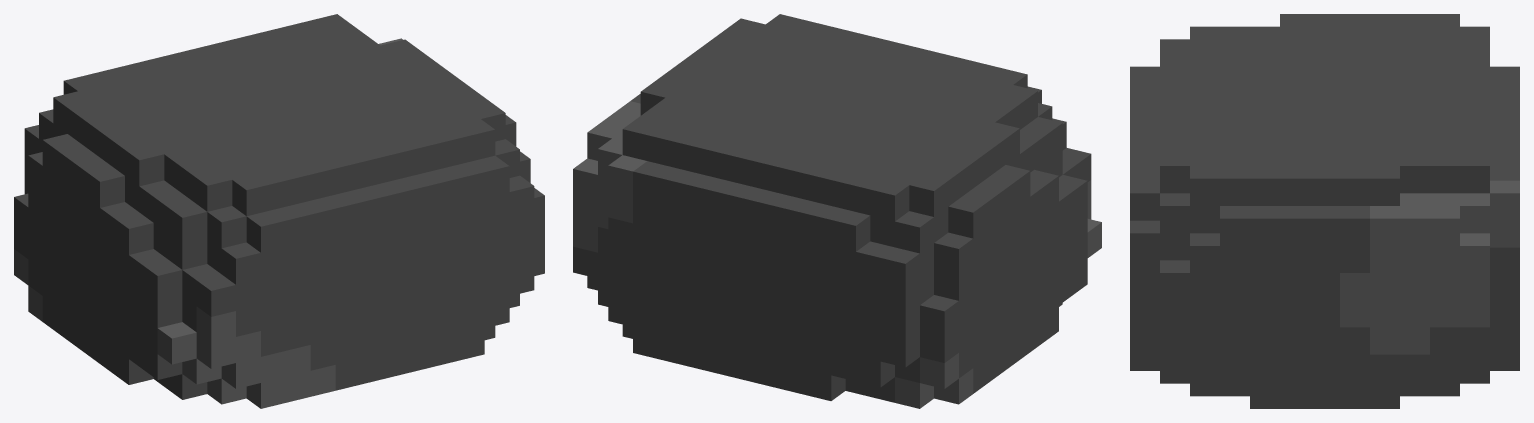
File: Rock1.obj
The picture shows the model from 3 angles, left to right: view 1: azimuth 30°, elevation 25°; view 2: azimuth 150°, elevation 25°; view 3: azimuth 270°, elevation 25°; orthographic projection. The views are drawn at different scales.
Parts seen in each view (by area): view 1: Rock1; view 2: Rock1; view 3: Rock1.
Part boxes in pixels (box(x1,y1,x2,y2)): Rock1: box(14, 14, 544, 408); Rock1: box(573, 14, 1101, 408); Rock1: box(1130, 14, 1519, 408).
Size of the model in its own units: 15 by 8 by 13.
1 material, 1 textured.
